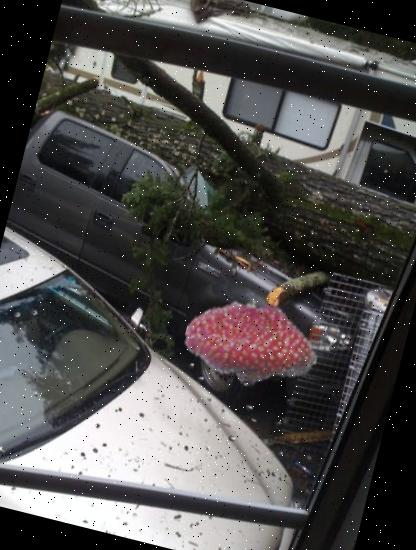Strawberry: (171, 262, 332, 424)
